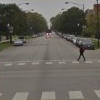crosswalk: (0, 89, 99, 100), (0, 60, 92, 65)
